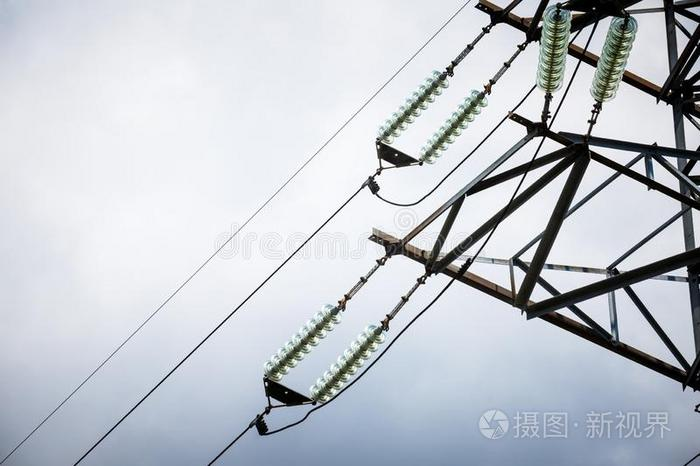insulator: (260, 303, 344, 378), (309, 324, 385, 404), (378, 68, 452, 142), (417, 88, 488, 164), (591, 17, 637, 99), (538, 4, 574, 90)
